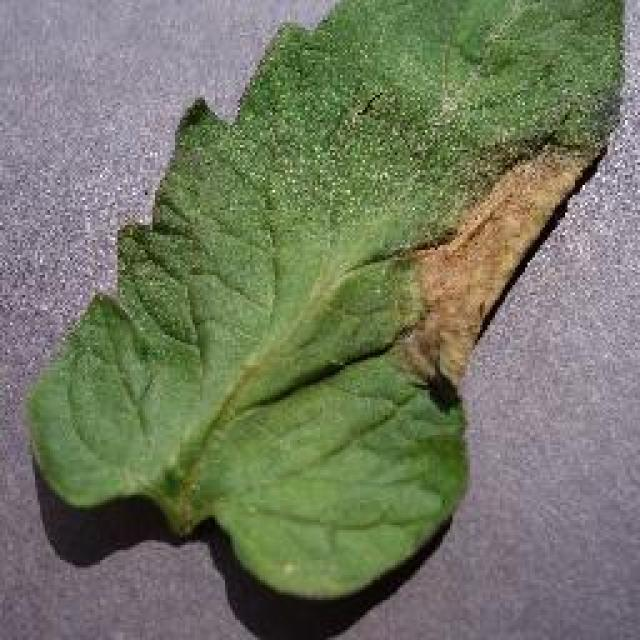Tomato Late Blight: (318, 42, 564, 385)
